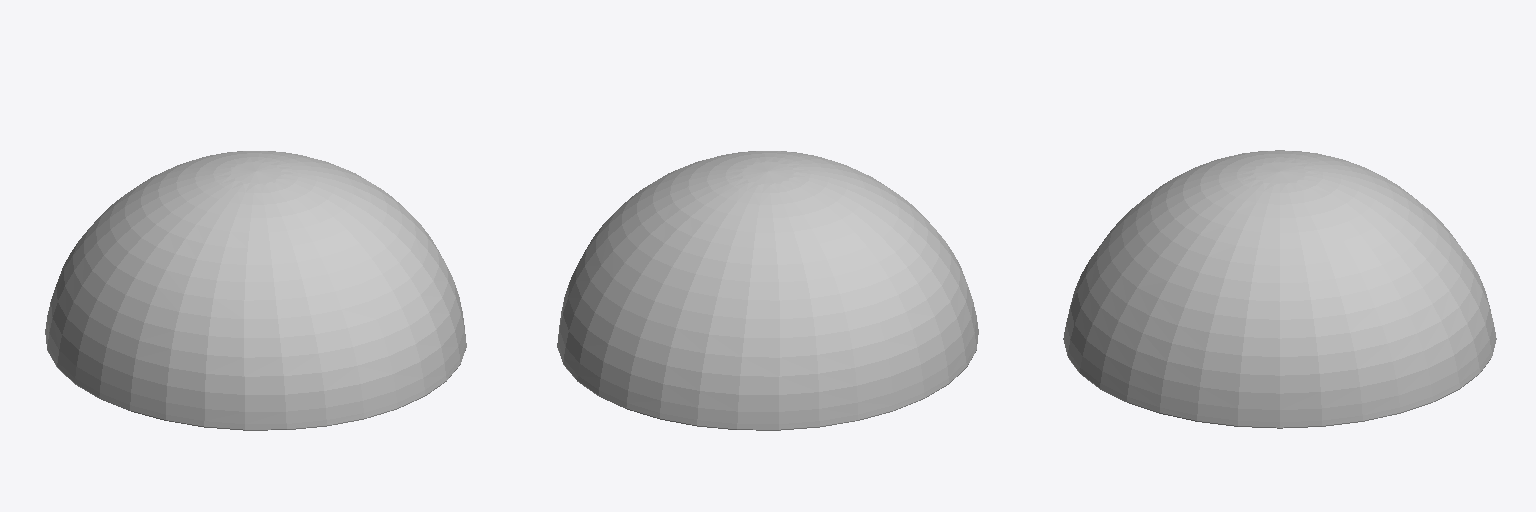
Rendered from dome.obj.
The picture shows the model from 3 angles: view 1: azimuth 30°, elevation 25°; view 2: azimuth 150°, elevation 25°; view 3: azimuth 270°, elevation 25°; orthographic projection.
Visible parts, largest first — view 1: Sphere; view 2: Sphere; view 3: Sphere.
Part boxes in pixels (bbox=[...]): Sphere: bbox=[45, 151, 466, 430]; Sphere: bbox=[557, 151, 978, 430]; Sphere: bbox=[1063, 150, 1496, 428].
Bounding box in the file's own units: 4.41 × 1.96 × 4.56.